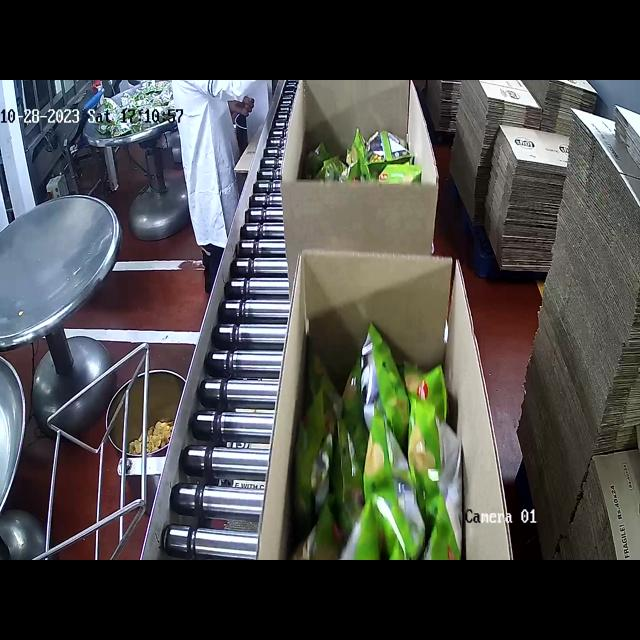yogurt: (292, 321, 463, 558), (313, 141, 424, 185)
